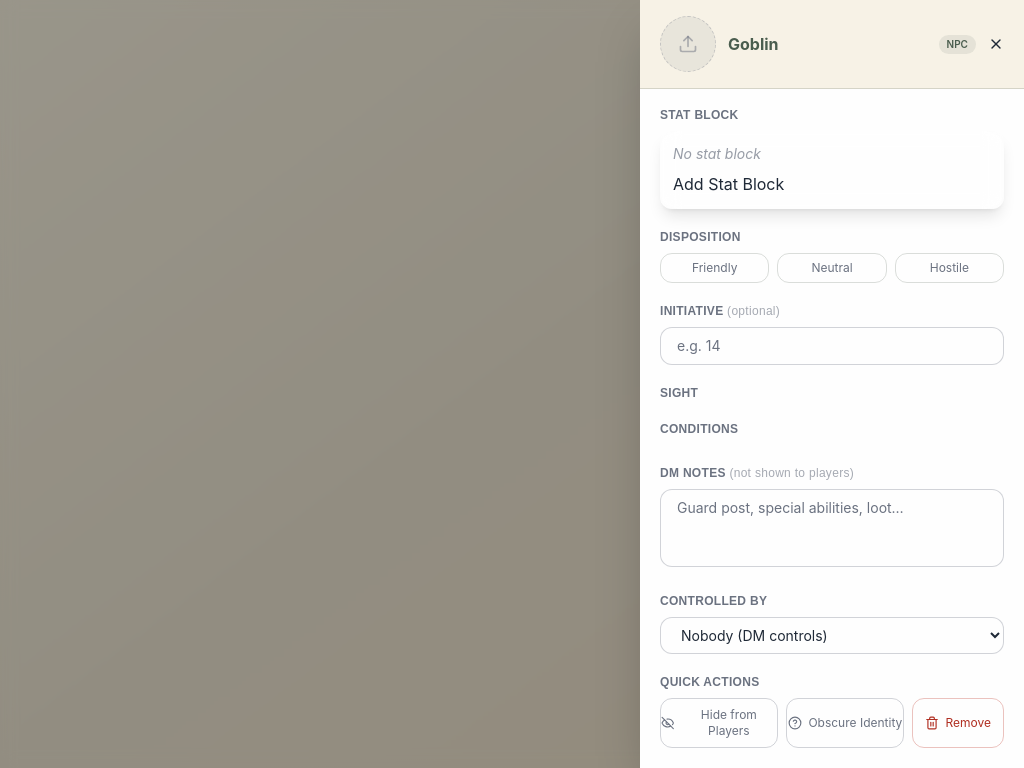
Test: Hide from Players › shows the token hidden once the save goes through
The image size is (1024, 768).
(page scrolled)
Click the button "Hide from Players": (719, 723) [660,698,778,748]
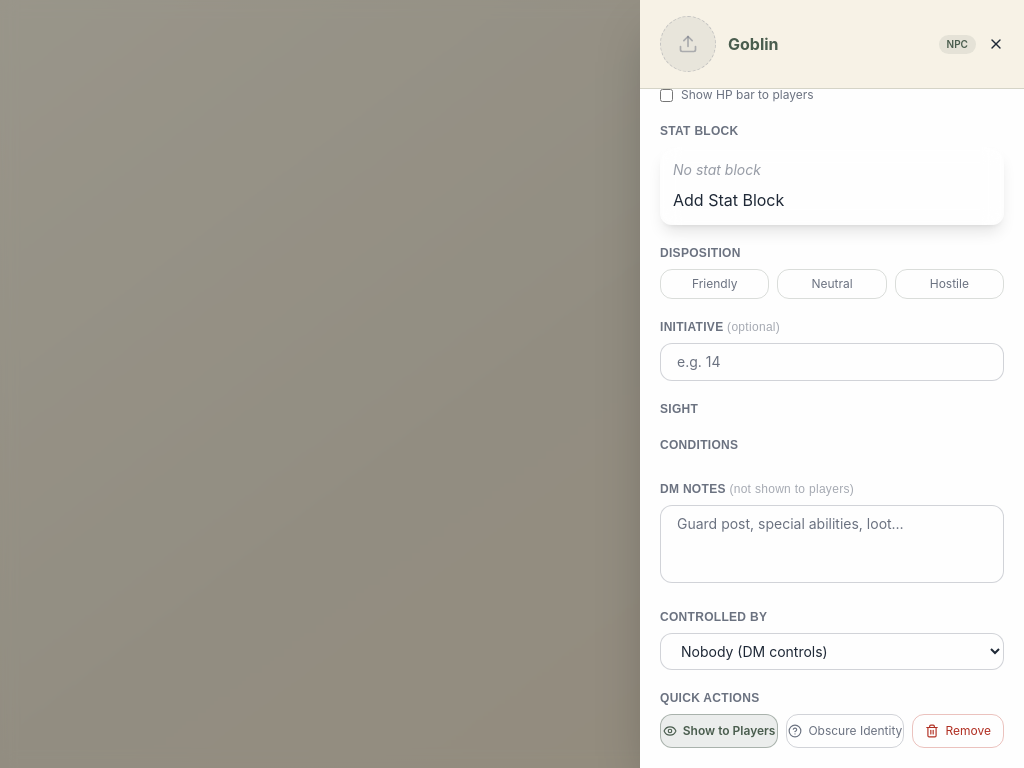
Check: the button "Show to Players" is shown, box [660,714,778,748]
